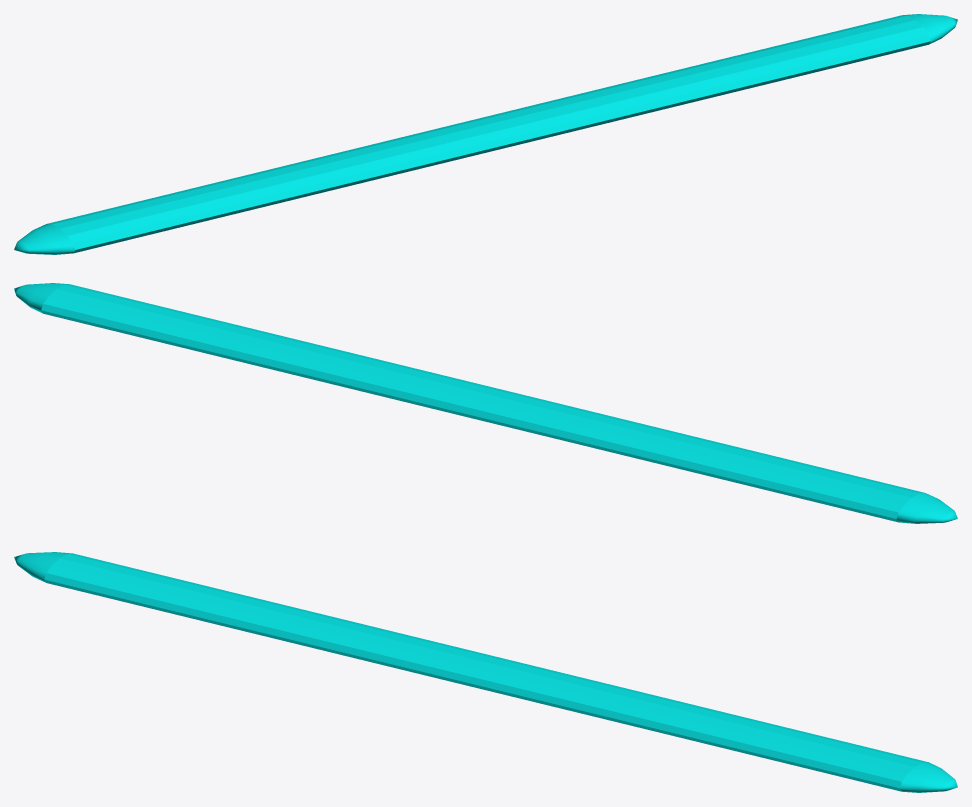
The model's file is laser_tiro.fbx.
The picture shows the model from 3 angles, top to bottom: view 1: azimuth 30°, elevation 25°; view 2: azimuth 150°, elevation 25°; view 3: azimuth 330°, elevation 25°; orthographic projection.
Visible parts, largest first — view 1: laser_gun; view 2: laser_gun; view 3: laser_gun.
Boxes of the visible parts, x1,y1,x2,y2 form: laser_gun: [14, 14, 957, 254]; laser_gun: [14, 283, 957, 523]; laser_gun: [14, 552, 957, 792].
Bounding box in the file's own units: 4.62 × 0.0928 × 0.2627.
